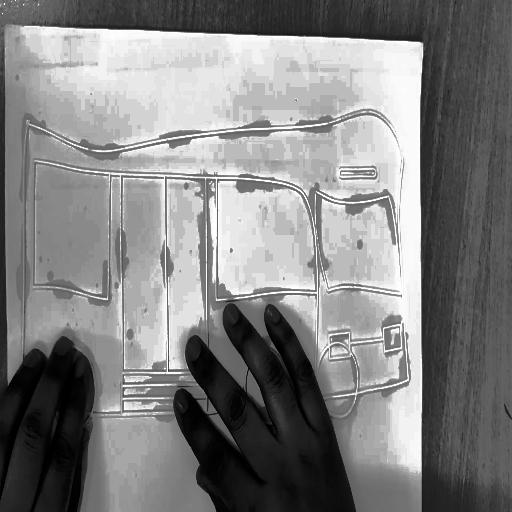bus: (17, 99, 417, 429)
top_left: (3, 23, 8, 33)
top_right: (419, 33, 429, 51)
